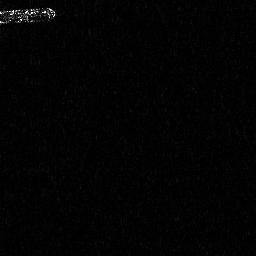ship: (1, 5, 56, 29)
